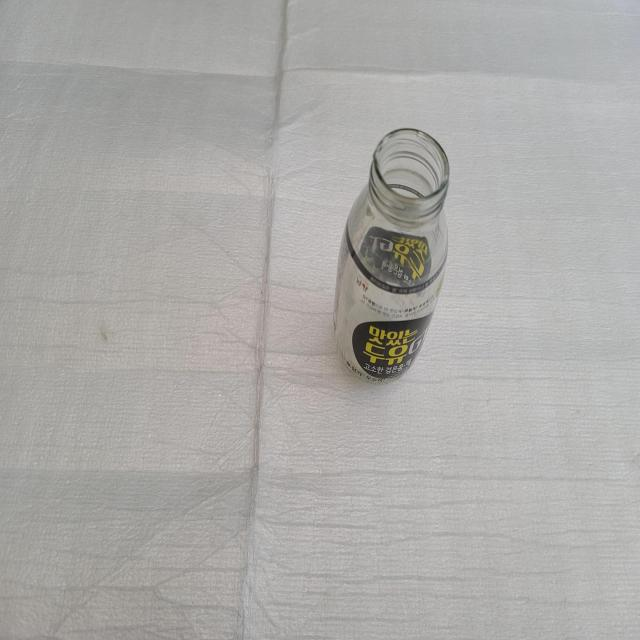glass: (335, 129, 449, 382)
